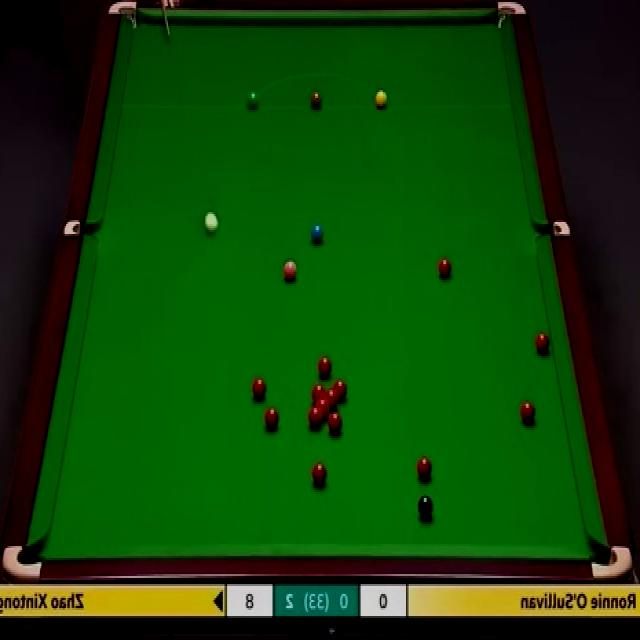pocket: (1, 538, 43, 582), (590, 544, 633, 584), (109, 0, 139, 34), (498, 0, 529, 28), (66, 218, 99, 236), (538, 220, 572, 237)
